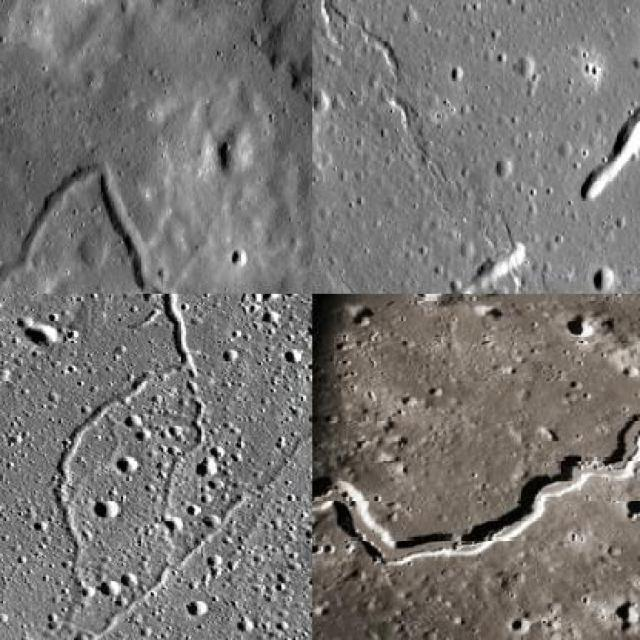rille: (0, 294, 311, 638), (312, 335, 638, 568), (52, 294, 260, 637), (0, 83, 215, 292), (582, 52, 638, 202), (158, 379, 208, 523)
